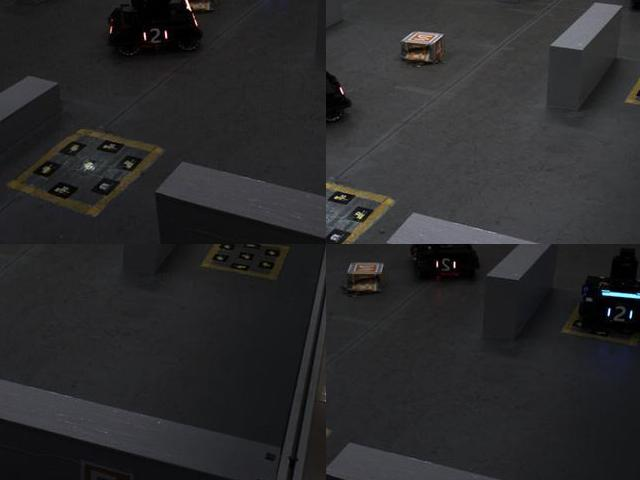armor: (137, 24, 174, 47), (603, 304, 636, 326), (433, 254, 462, 277)
